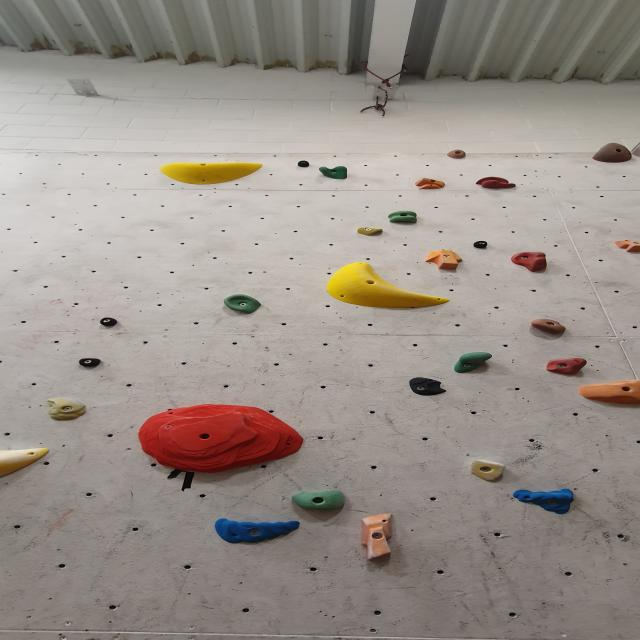Crimp: (138, 406, 307, 476), (213, 519, 303, 544), (512, 490, 577, 511), (44, 397, 89, 421), (470, 461, 508, 482), (476, 176, 518, 191), (413, 178, 448, 191)
Jug: (587, 137, 640, 166), (291, 489, 349, 511), (221, 293, 267, 315), (510, 249, 551, 272), (454, 352, 494, 374), (529, 318, 569, 335), (550, 358, 586, 374), (386, 211, 419, 226), (319, 167, 351, 181), (444, 150, 467, 159)
Pinch: (358, 514, 398, 563), (424, 250, 464, 270), (614, 240, 640, 255), (76, 357, 103, 368), (356, 226, 384, 236), (98, 316, 122, 326), (472, 241, 490, 250), (295, 161, 311, 169)
Sloper: (324, 262, 449, 310), (0, 428, 53, 485), (160, 160, 266, 184), (571, 378, 640, 406), (403, 376, 452, 398)
